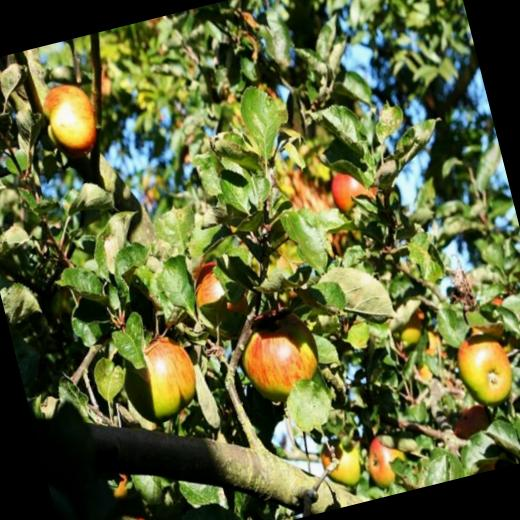Apple: (228, 301, 330, 416), (129, 332, 206, 432), (449, 322, 520, 411), (34, 80, 104, 164), (390, 305, 452, 390), (186, 254, 250, 329), (314, 432, 367, 494), (361, 430, 411, 493), (330, 165, 382, 220)
